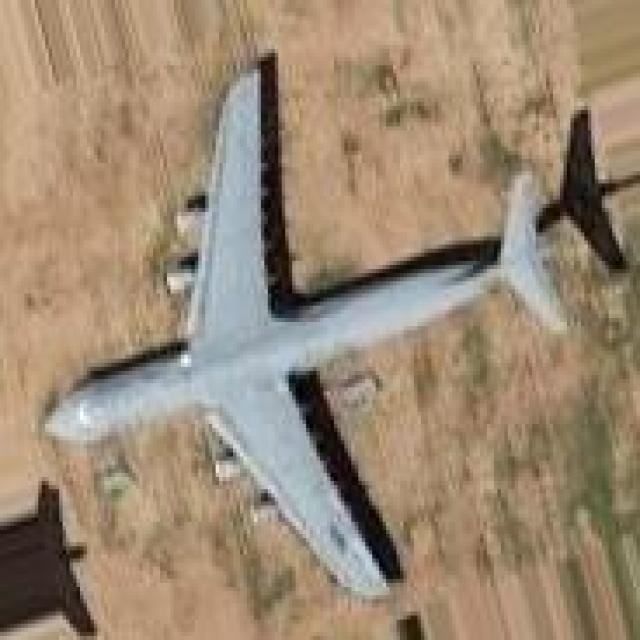C-5_TopDown: (35, 52, 577, 606)
